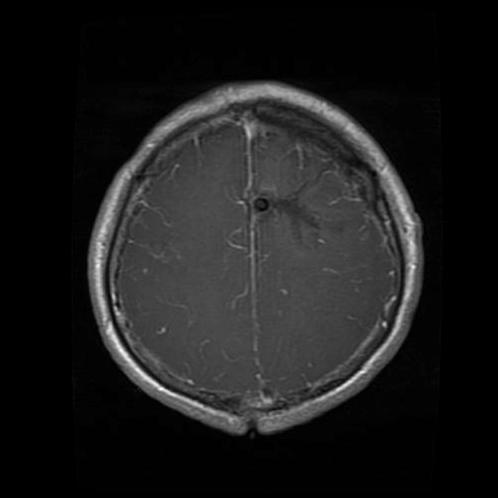Tumour-Glioma: (258, 182, 324, 237)
